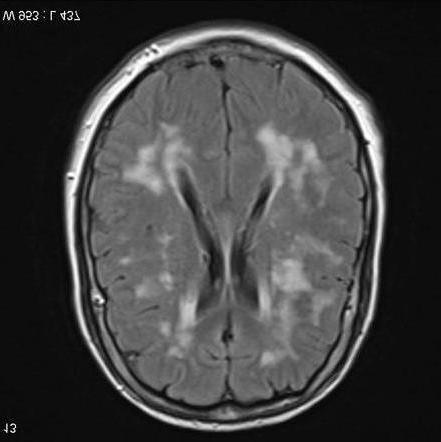Normal_Brain: (4, 1, 441, 442)
